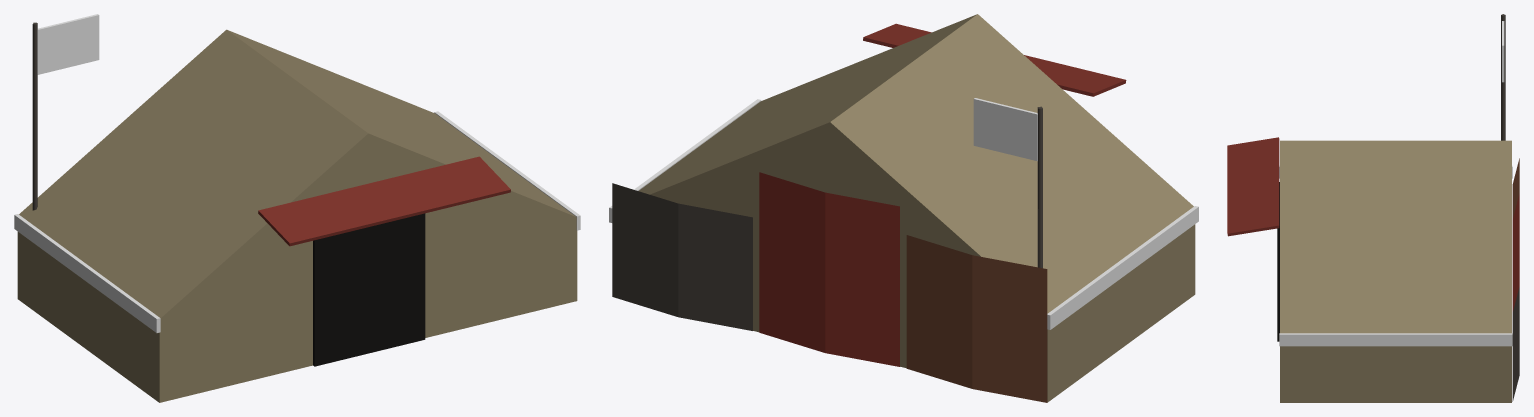
The picture shows the model from 3 angles, left to right: view 1: azimuth 30°, elevation 25°; view 2: azimuth 150°, elevation 25°; view 3: azimuth 270°, elevation 25°; orthographic projection. The views are drawn at different scales.
Visible parts, largest first — view 1: raider_building_tent; view 2: raider_building_tent; view 3: raider_building_tent.
Part boxes in pixels (x1,y1,x2,y2): raider_building_tent: (14,14,580,402); raider_building_tent: (609,14,1198,402); raider_building_tent: (1227,14,1519,402).
Size of the model in its own units: 6.9 by 4.3 by 5.03.
